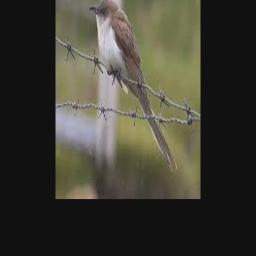Cuckoo: (89, 0, 178, 170)
